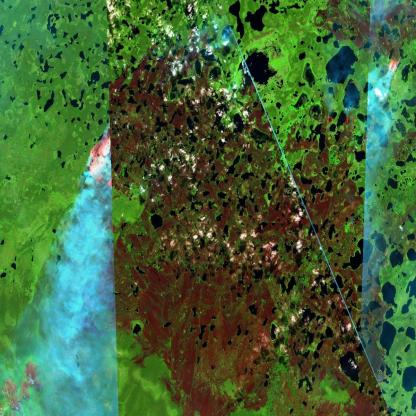fire: (83, 112, 114, 197), (385, 42, 409, 75)
